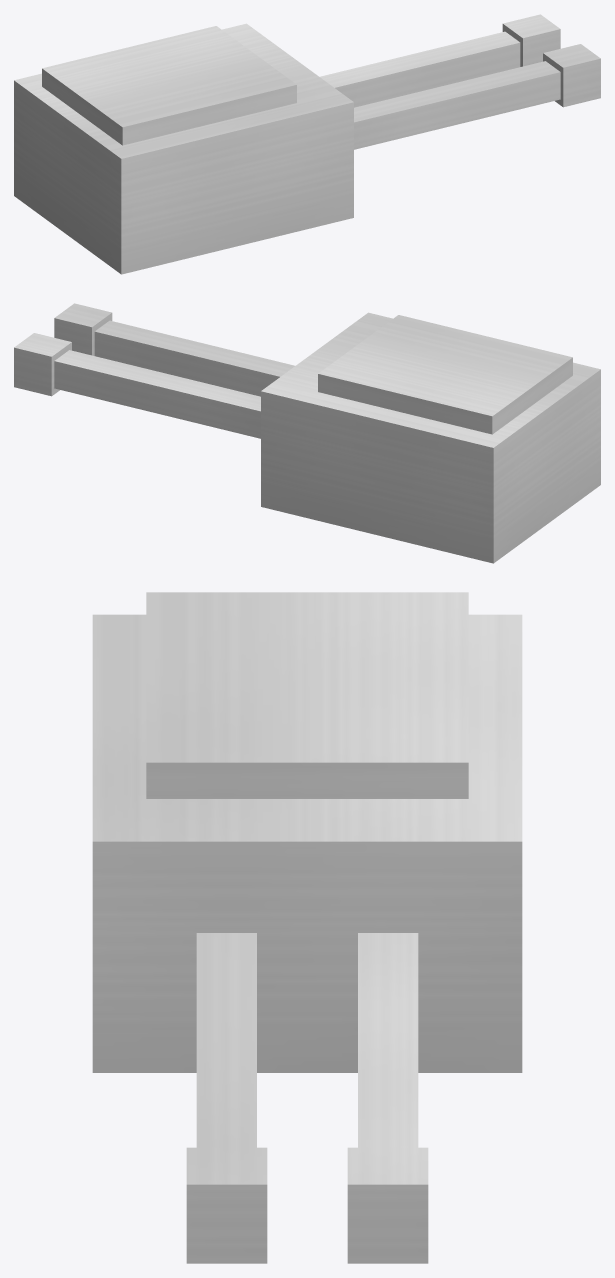
File: turret_gun_auto.obj
3 views of the same model, one above another, from view 1: azimuth 30°, elevation 25°; view 2: azimuth 150°, elevation 25°; view 3: azimuth 270°, elevation 25° (orthographic). The views are drawn at different scales.
Parts seen in each view (by area): view 1: turret_gun_auto; view 2: turret_gun_auto; view 3: turret_gun_auto.
Part boxes in pixels (x1,y1,x2,y2): turret_gun_auto: (14,14,600,274); turret_gun_auto: (14,303,600,563); turret_gun_auto: (92,592,522,1263).
Size of the model in its own units: 1.73 by 0.44 by 0.64.
